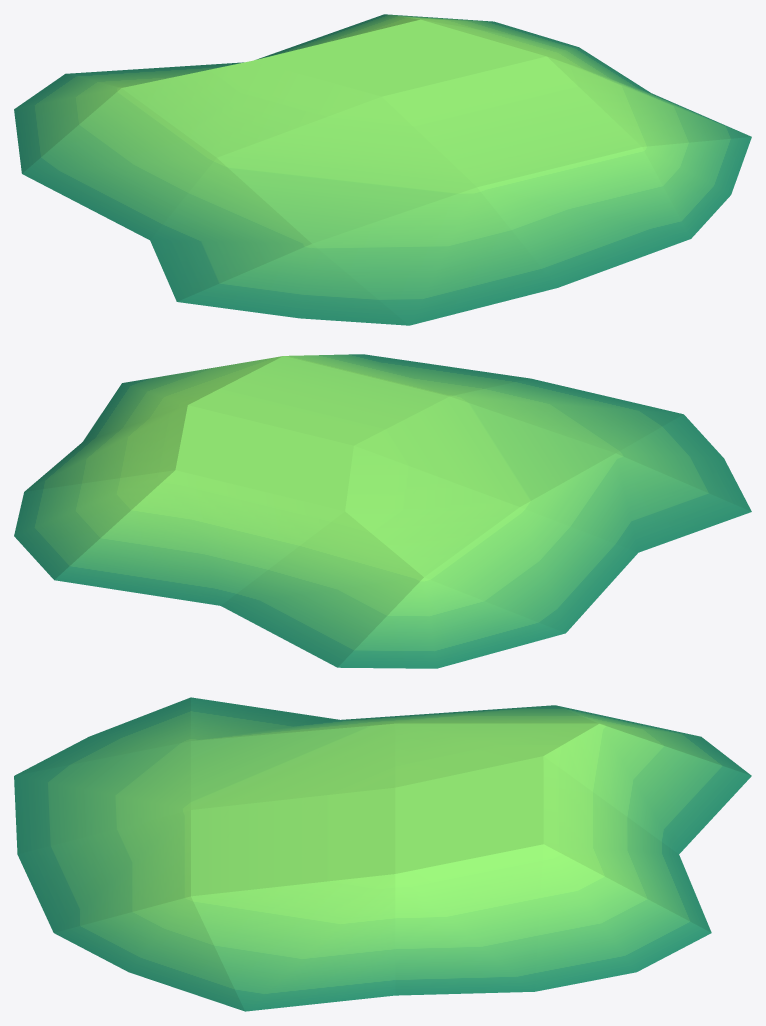
The model's file is terrain_1.fbx.
The picture shows the model from 3 angles, top to bottom: view 1: azimuth 30°, elevation 25°; view 2: azimuth 150°, elevation 25°; view 3: azimuth 270°, elevation 25°; orthographic projection. The views are drawn at different scales.
Visible parts, largest first — view 1: pPlane40; view 2: pPlane40; view 3: pPlane40.
Part boxes in pixels (<box>): pPlane40: <box>14,14,751,325</box>; pPlane40: <box>14,354,751,668</box>; pPlane40: <box>14,697,751,1011</box>.
Bounding box in the file's own units: 455 × 45.09 × 452.
